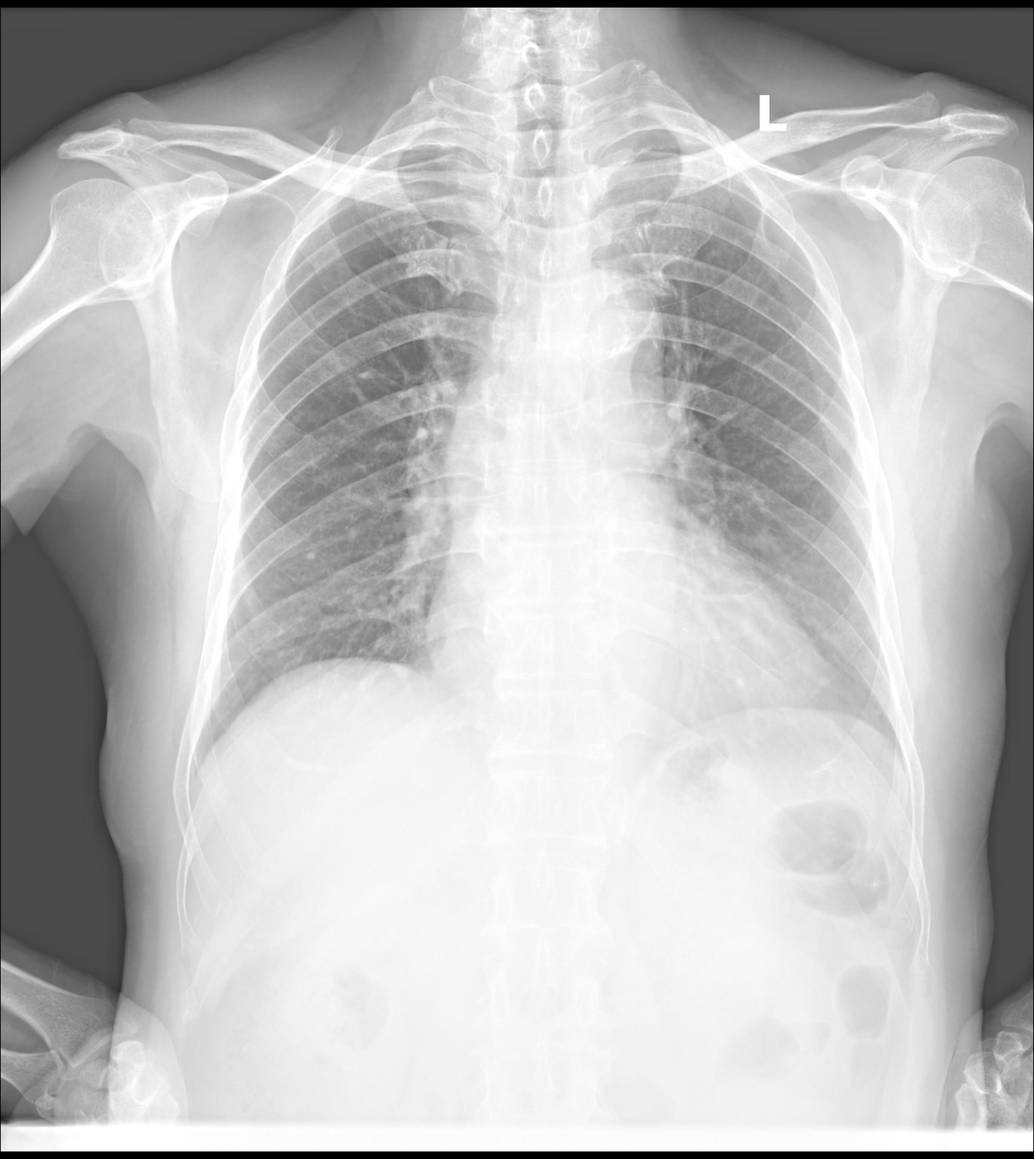Aortic enlargement: (551, 273, 663, 386)
